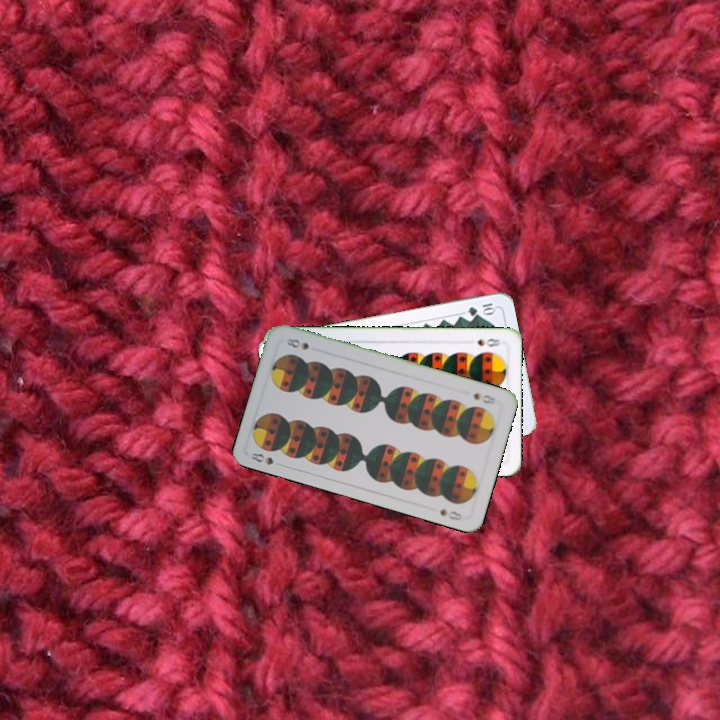G10: (464, 299, 498, 318)
S8: (246, 449, 286, 469), (470, 388, 498, 407), (473, 334, 506, 349)
